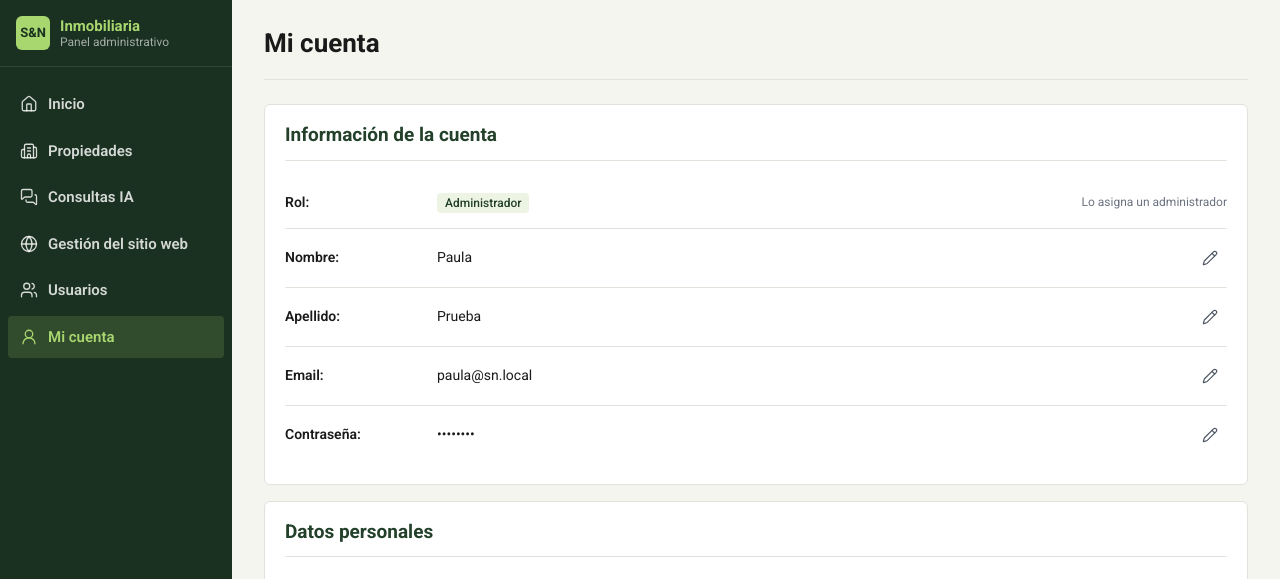
Mi cuenta y contraseña › edita un dato en su fila y cambia el email confirmando la contraseña
Check: the heading "Información de la cuenta" is shown, box [285,121,1227,160]
Click the button named "Editar apellido": (1210, 316) [1193,300,1227,334]
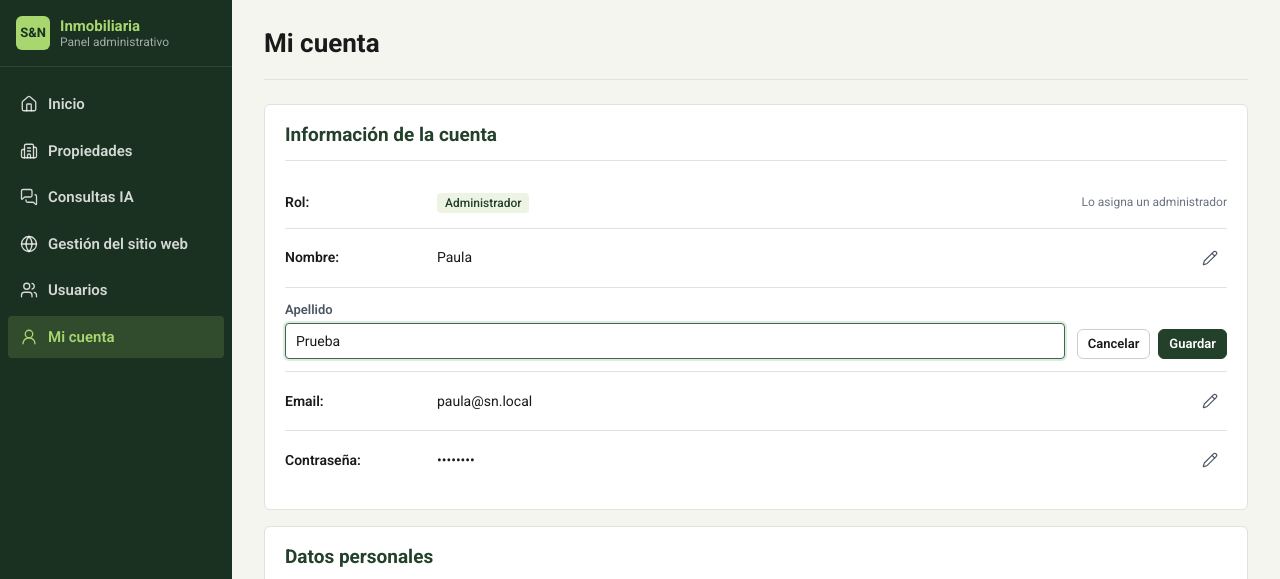
Replace the text in the field labelled "Apellido" with "Gómez": (675, 341) [285,323,1065,359]
Click the button "Guardar": (1193, 344) [1158,329,1227,359]
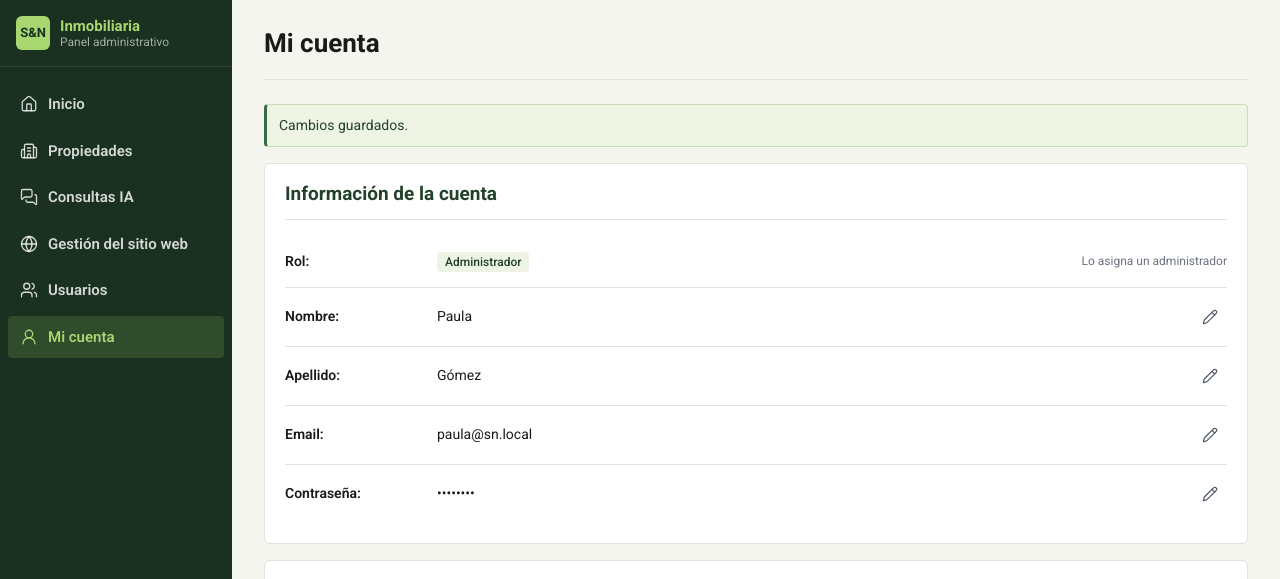
Check: the text "Cambios guardados." is shown, box [264,104,1248,147]
Click the button named "Editar email": (1210, 434) [1193,418,1227,452]
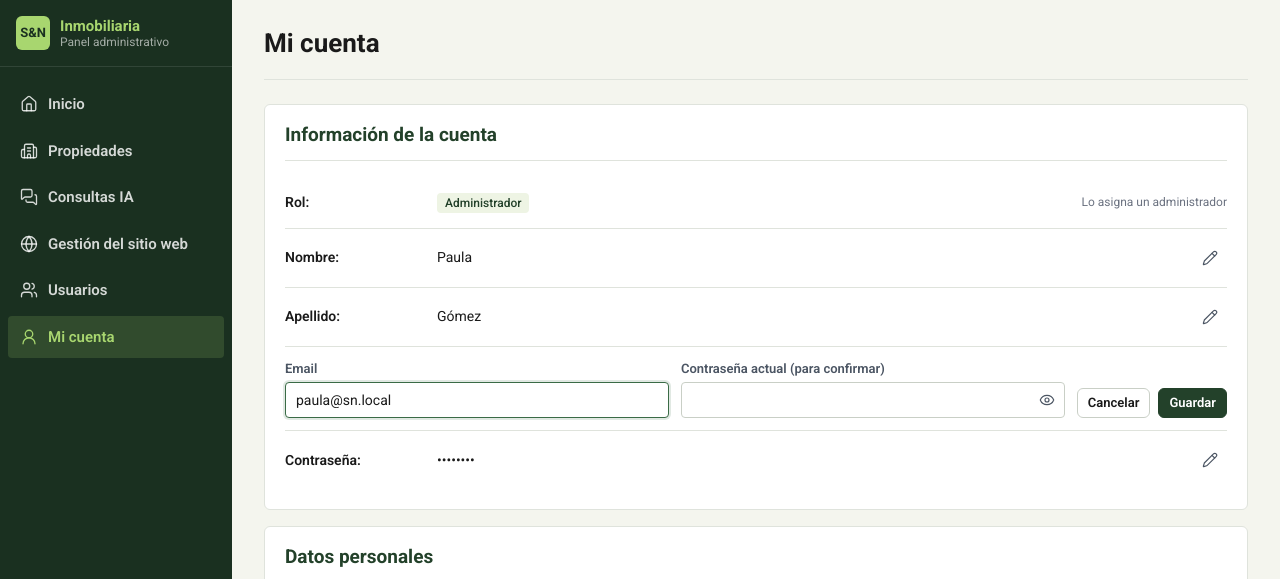
Replace the text in the field labelled "Email" with "nuevo@sn.local": (477, 400) [285,382,669,418]
Click the button "Guardar": (1193, 403) [1158,388,1227,418]
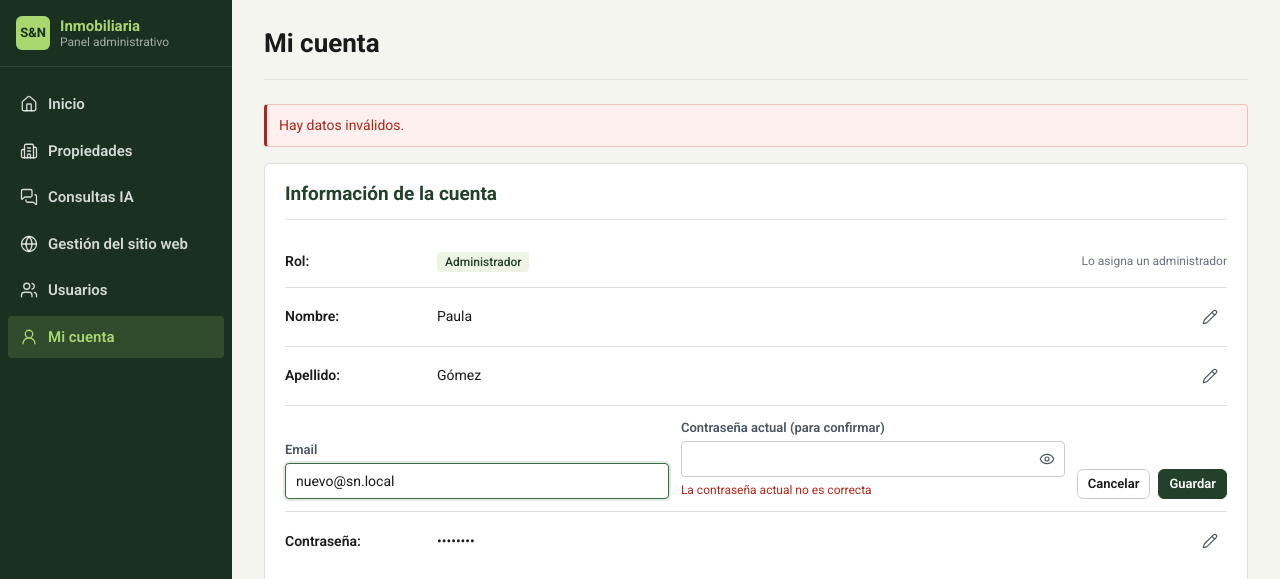
Check: the text "La contraseña actual no es correcta" is shown, box [681,483,872,497]
In the password field: (873, 459) [681,441,1065,477], type "Clave-Correcta"
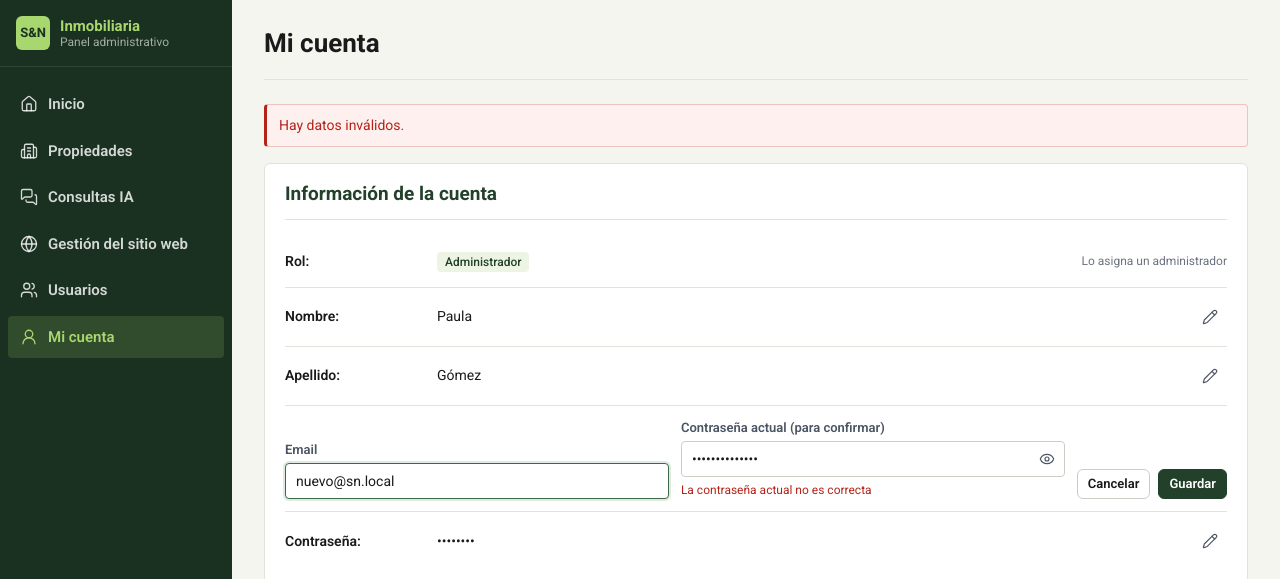
Click the button "Guardar": (1193, 484) [1158,469,1227,499]
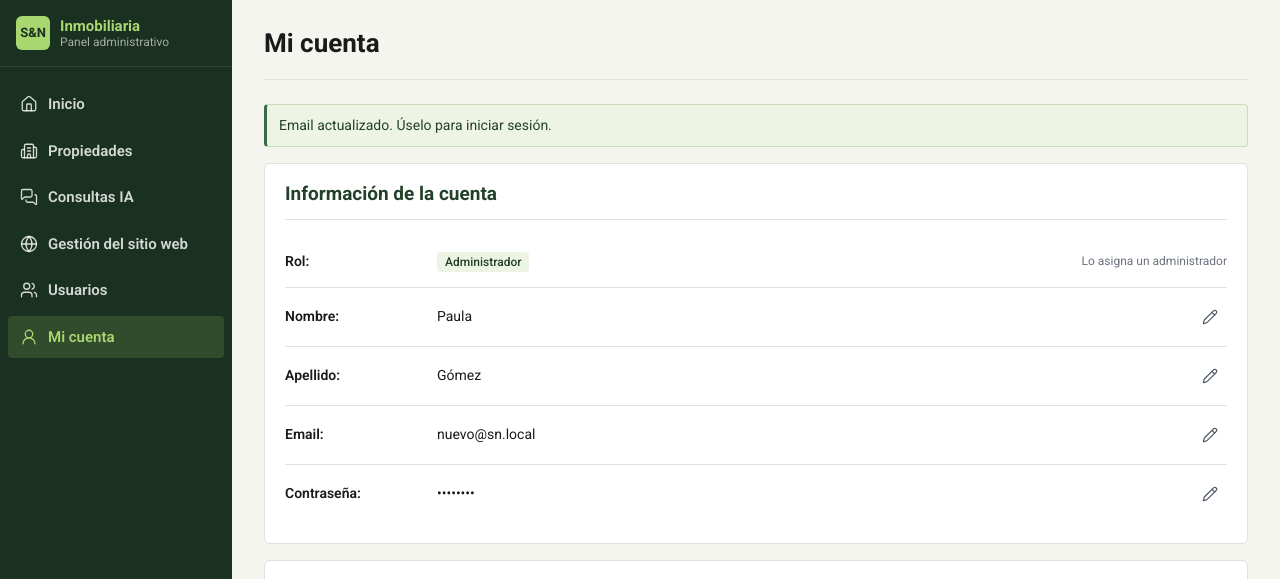
Check: the text "Email actualizado. Úselo para iniciar sesión." is shown, box [264,104,1248,147]
